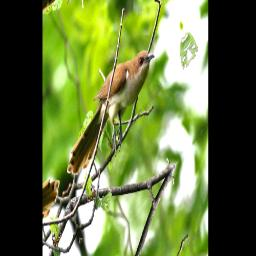Cuckoo: (57, 26, 165, 206)
